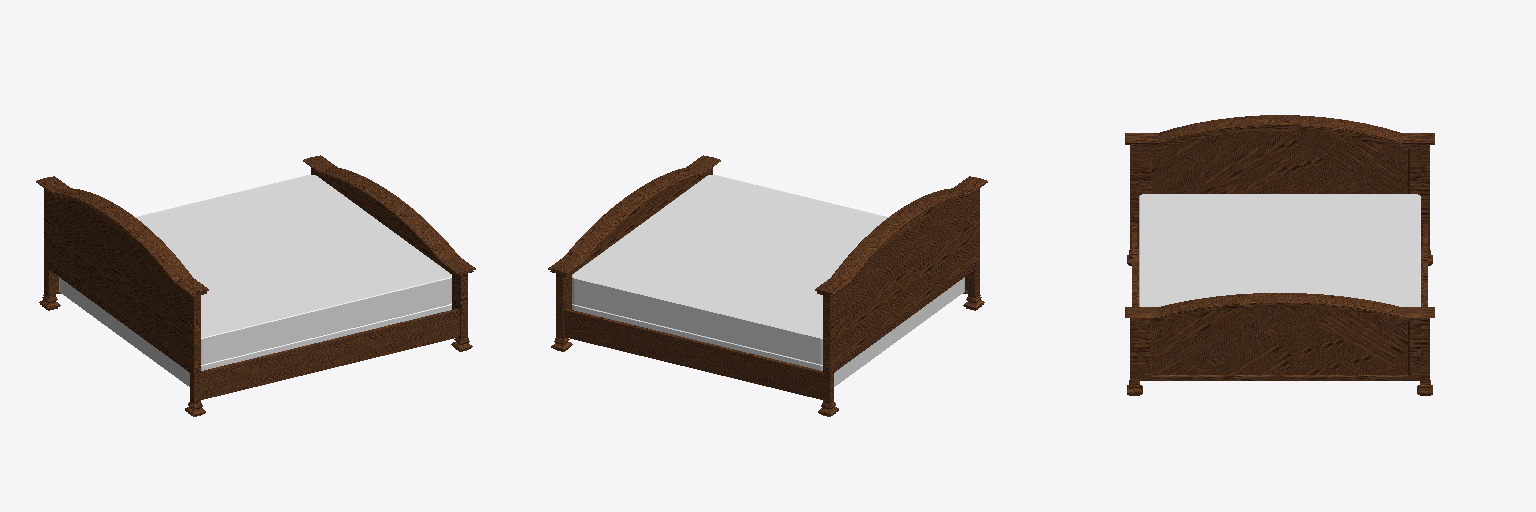
3 views of the same model, side by side, from view 1: azimuth 30°, elevation 25°; view 2: azimuth 150°, elevation 25°; view 3: azimuth 270°, elevation 25° (orthographic).
Parts seen in each view (by area): view 1: Mesh2_Interior_Component_HeadboardKingSz01a1_Interior_Furn_.002; view 2: Mesh2_Interior_Component_HeadboardKingSz01a1_Interior_Furn_.002; view 3: Mesh2_Interior_Component_HeadboardKingSz01a1_Interior_Furn_.002.
Boxes of the visible parts, x1,y1,x2,y2 form: Mesh2_Interior_Component_HeadboardKingSz01a1_Interior_Furn_.002: [36, 155, 475, 416]; Mesh2_Interior_Component_HeadboardKingSz01a1_Interior_Furn_.002: [548, 155, 987, 416]; Mesh2_Interior_Component_HeadboardKingSz01a1_Interior_Furn_.002: [1125, 115, 1434, 395].
Bounding box in the file's own units: 0.8345 × 0.4037 × 0.7815.
Materials: 2 (1 with a texture image).